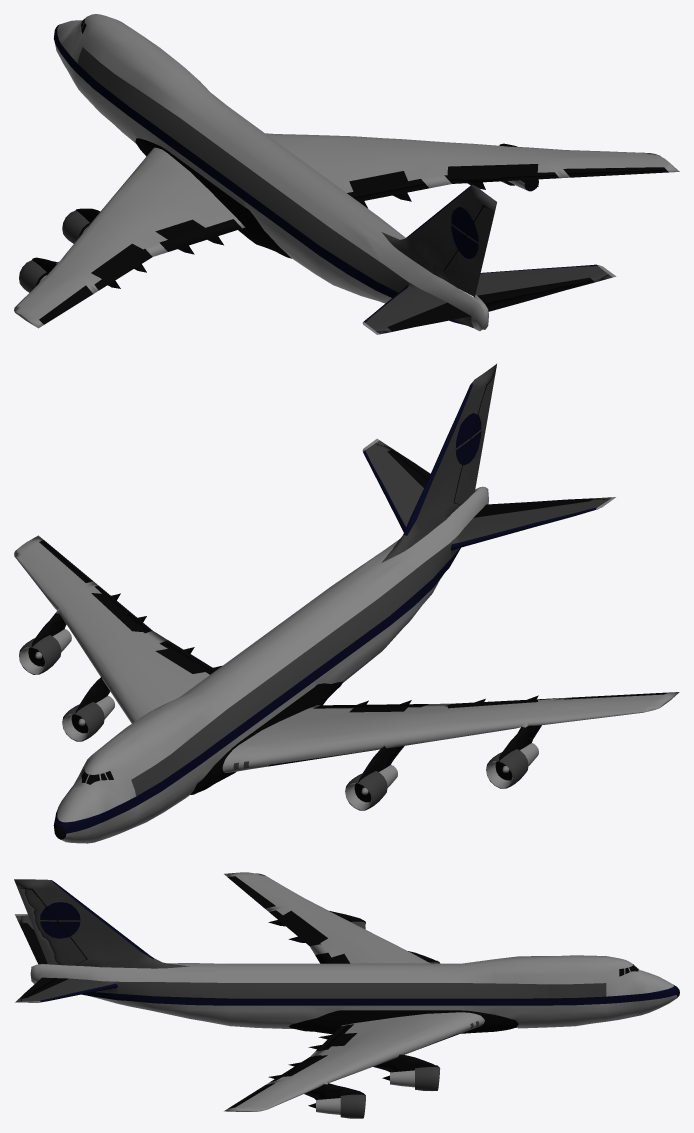
Rendered from Boeing747.obj.
3 renders of one model, top to bottom at view 1: azimuth 30°, elevation 25°; view 2: azimuth 150°, elevation 25°; view 3: azimuth 270°, elevation 25°, orthographic. The views are drawn at different scales.
Visible parts, largest first — view 1: (null); view 2: (null); view 3: (null).
Boxes of the visible parts, <box> form: (null): <box>14,14,679,334</box>; (null): <box>14,364,679,843</box>; (null): <box>14,872,679,1118</box>.
Size of the model in its own units: 196 by 60.53 by 231.
